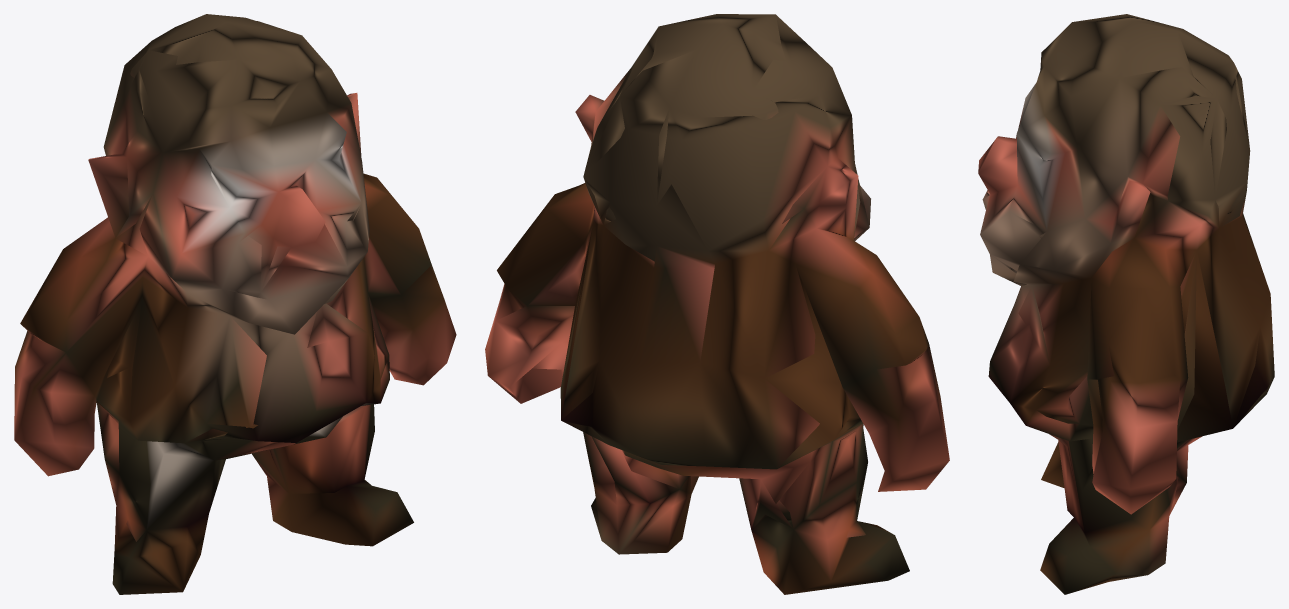
Rendered from gen3d-dwarve-lod1.glb.
The picture shows the model from 3 angles, left to right: view 1: azimuth 30°, elevation 25°; view 2: azimuth 150°, elevation 25°; view 3: azimuth 270°, elevation 25°; orthographic projection. The views are drawn at different scales.
Visible parts, largest first — view 1: part_0; view 2: part_0; view 3: part_0.
Part boxes in pixels (<box>): part_0: <box>14,14,456,594</box>; part_0: <box>485,14,949,594</box>; part_0: <box>978,14,1274,594</box>.
Bounding box in the file's own units: 0.8982 × 0.9968 × 0.5332.
